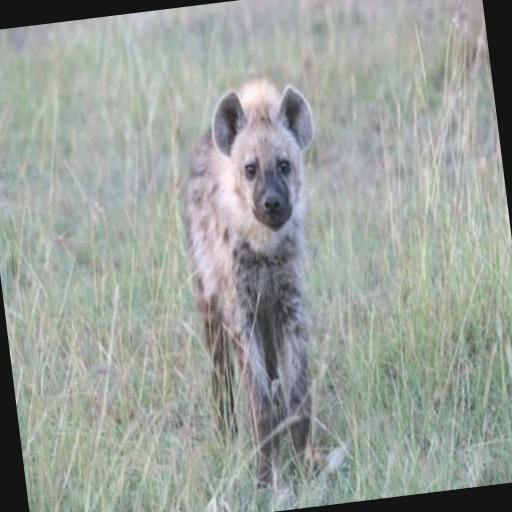hyenas: (106, 32, 406, 498)
